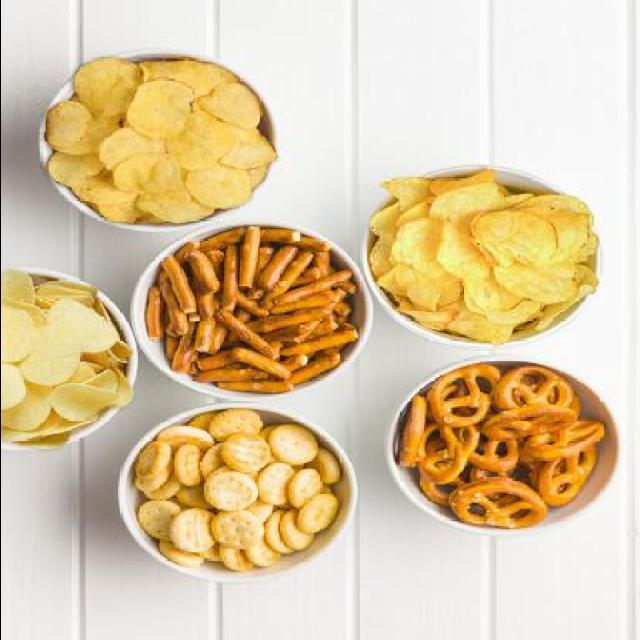Chips packaged: (33, 55, 275, 223), (374, 176, 597, 338), (0, 276, 128, 444)
Ritz cracker packaged: (127, 408, 358, 584)
Salatini packaged: (140, 230, 357, 399), (402, 368, 610, 524)
